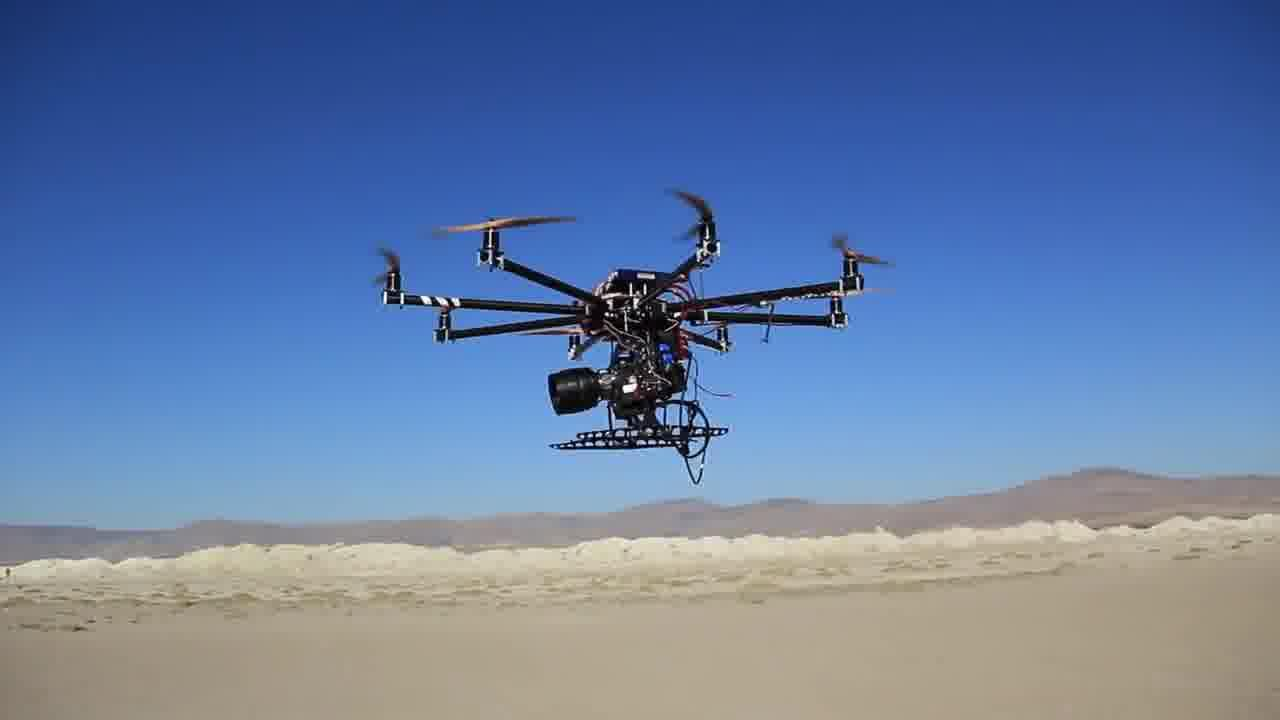drone: (372, 188, 896, 482)
